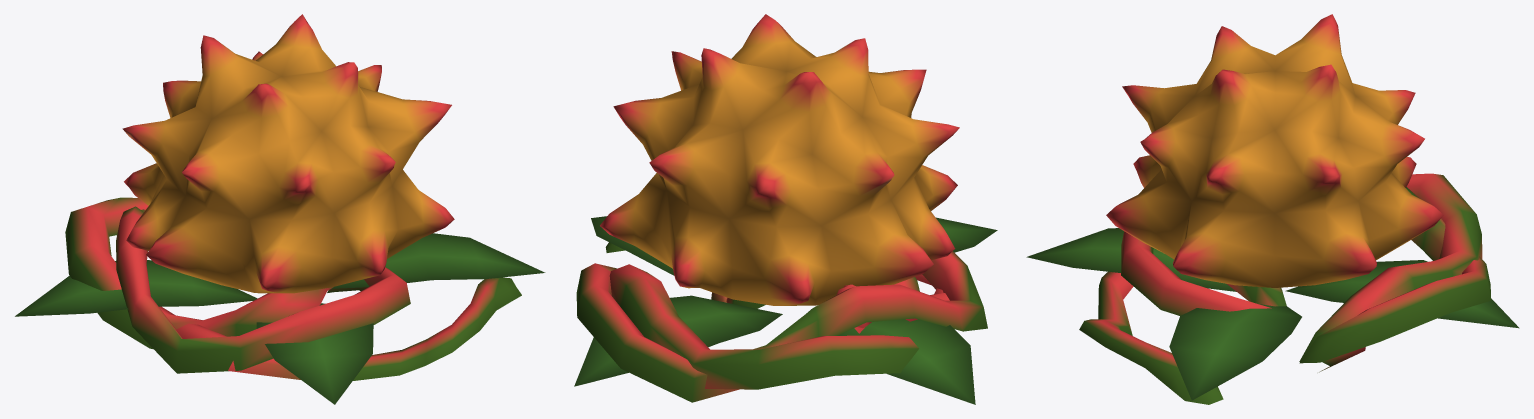
The model's file is Bulb_1.fbx.
3 renders of one model, left to right at view 1: azimuth 30°, elevation 25°; view 2: azimuth 150°, elevation 25°; view 3: azimuth 270°, elevation 25°, orthographic. The views are drawn at different scales.
Parts seen in each view (by area): view 1: pPlane72; view 2: pPlane72; view 3: pPlane72.
Boxes of the visible parts, x1=… form: pPlane72: x1=15, y1=14, x2=545, y2=404; pPlane72: x1=574, y1=14, x2=997, y2=404; pPlane72: x1=1026, y1=14, x2=1519, y2=404.
Bounding box in the file's own units: 327 × 194 × 314.
